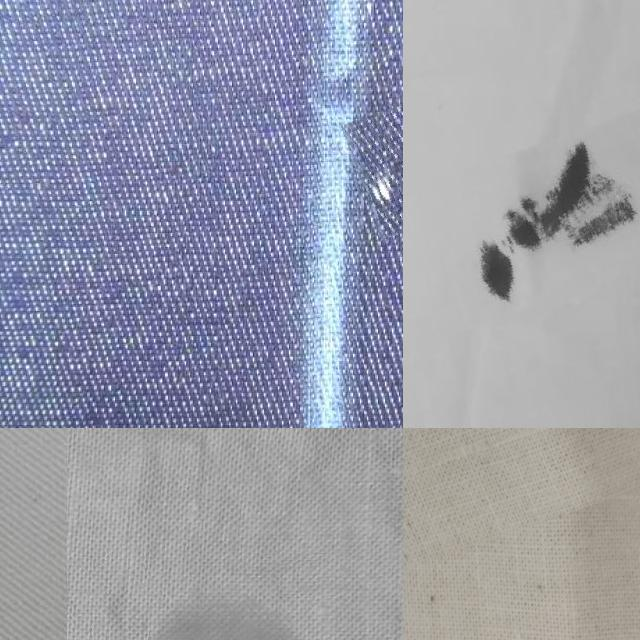Thread_other: (426, 125, 640, 313), (115, 575, 337, 640)
stains: (403, 428, 640, 635), (349, 104, 403, 236)
